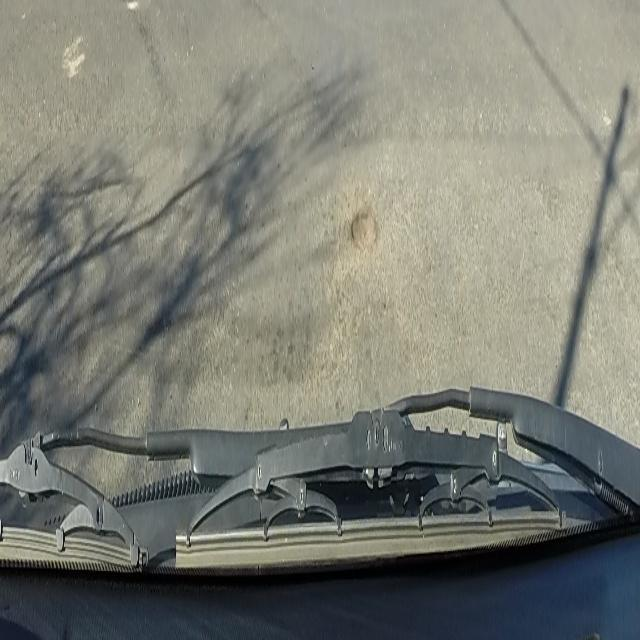pothole: (346, 201, 386, 257)
